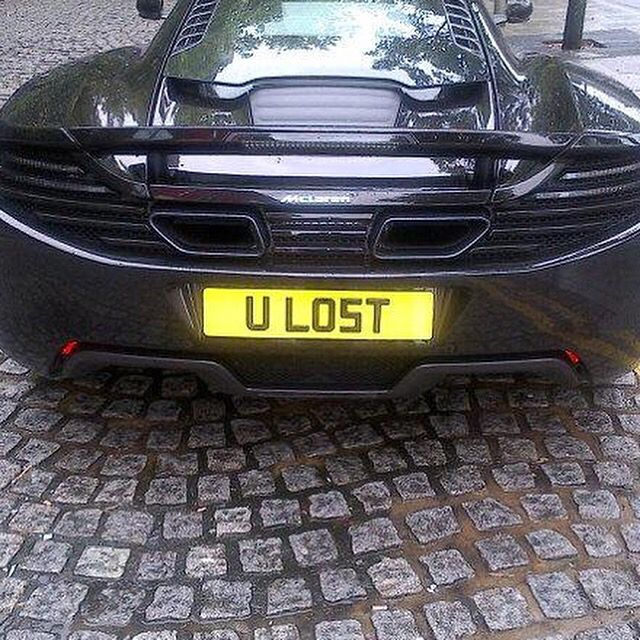plate: (206, 286, 437, 343)
